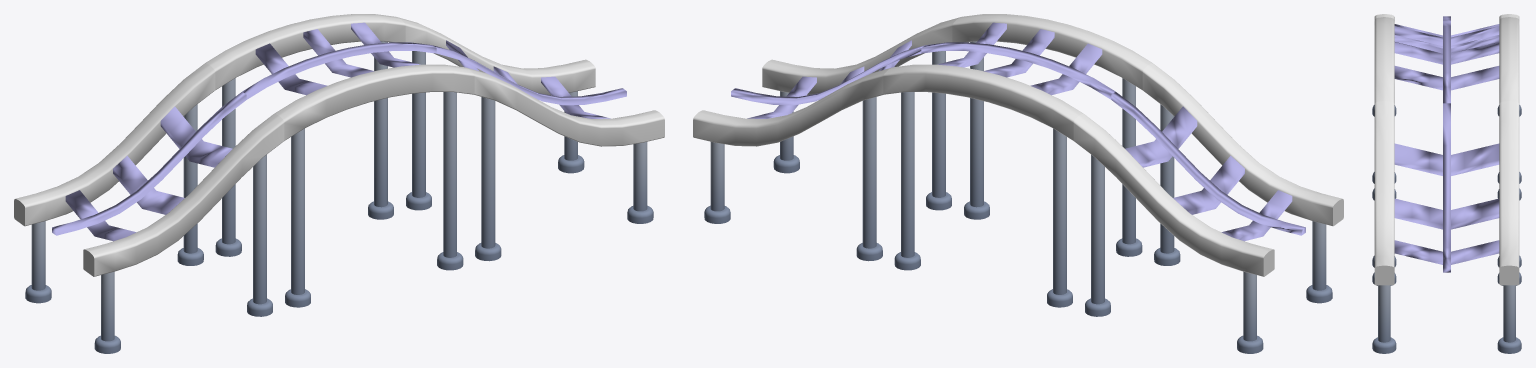
File: New_Rail_Line_Bendy.fbx
3 renders of one model, left to right at view 1: azimuth 30°, elevation 25°; view 2: azimuth 150°, elevation 25°; view 3: azimuth 270°, elevation 25°, orthographic. The views are drawn at different scales.
Visible parts, largest first — view 1: New_Rail_Bendy; view 2: New_Rail_Bendy; view 3: New_Rail_Bendy.
Part boxes in pixels (<box>): New_Rail_Bendy: <box>14,14,664,353</box>; New_Rail_Bendy: <box>693,14,1343,353</box>; New_Rail_Bendy: <box>1372,14,1521,353</box>.
Size of the model in its own units: 300 by 105 by 75.12.
